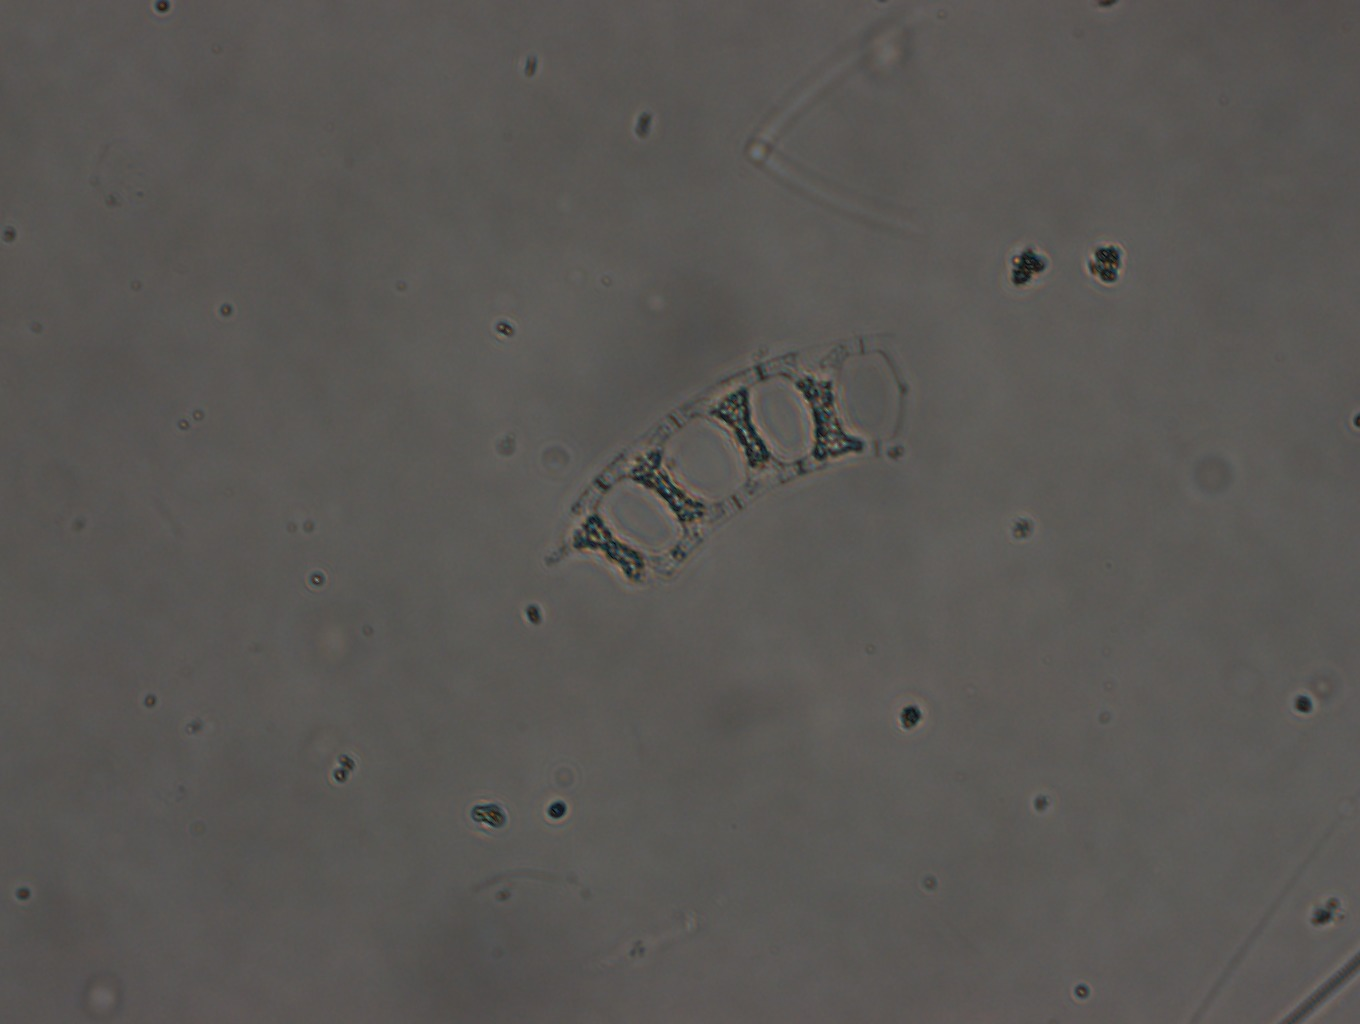eucampia: (555, 332, 933, 591)
